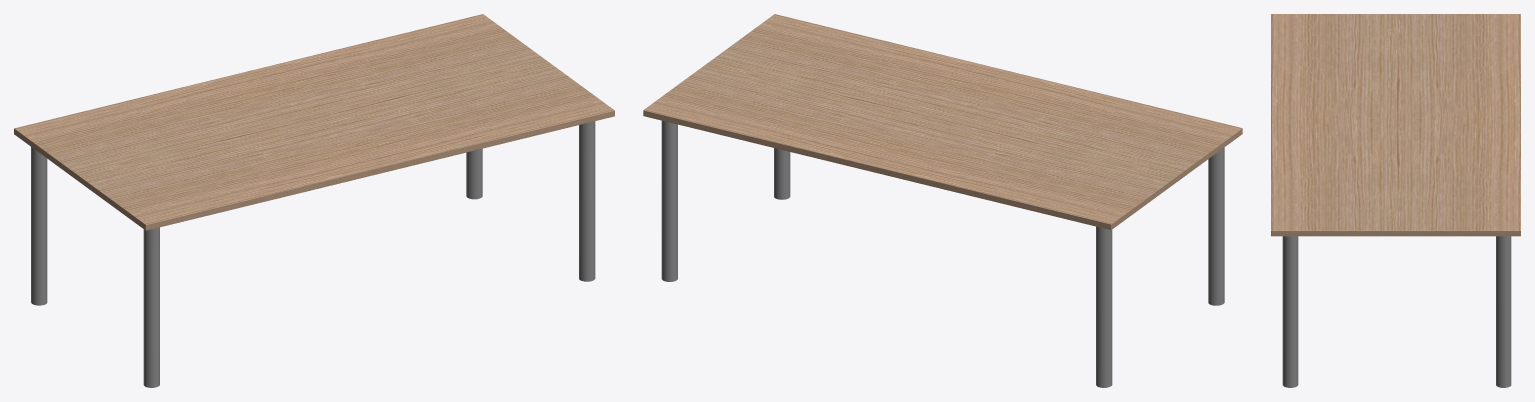
Rendered from Table 1.FBX.
3 renders of one model, left to right at view 1: azimuth 30°, elevation 25°; view 2: azimuth 150°, elevation 25°; view 3: azimuth 270°, elevation 25°, orthographic. The views are drawn at different scales.
Parts seen in each view (by area): view 1: Table; view 2: Table; view 3: Table.
Boxes of the visible parts, box(x1,y1,x2,y2) form: Table: box(14, 14, 614, 387); Table: box(643, 14, 1242, 387); Table: box(1271, 14, 1520, 387).
Size of the model in its own units: 203 by 70.82 by 99.01.
2 materials, 1 textured.
